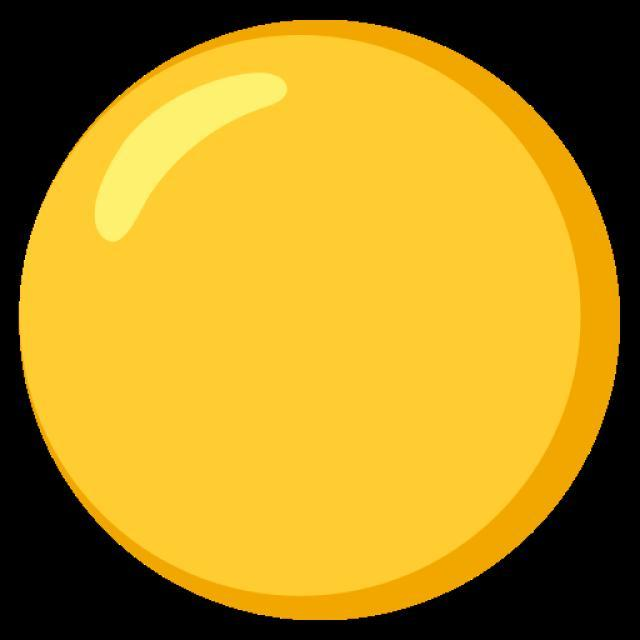Circle: (18, 19, 622, 624)
